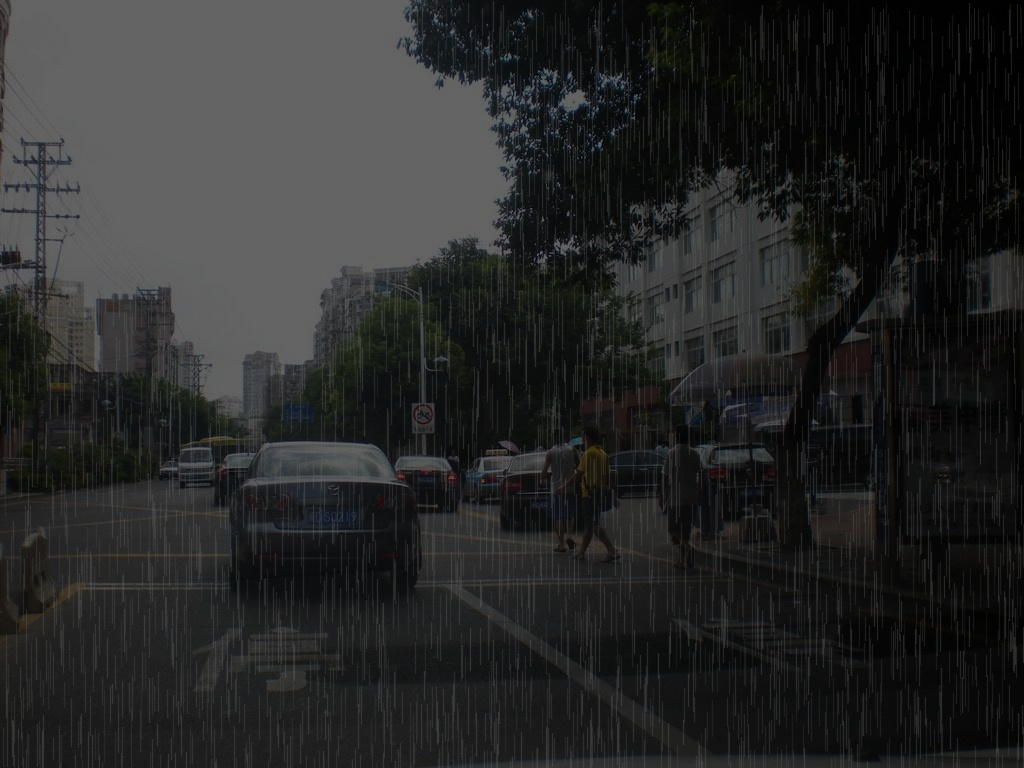Prohibitory Signs: (412, 403, 435, 426)
